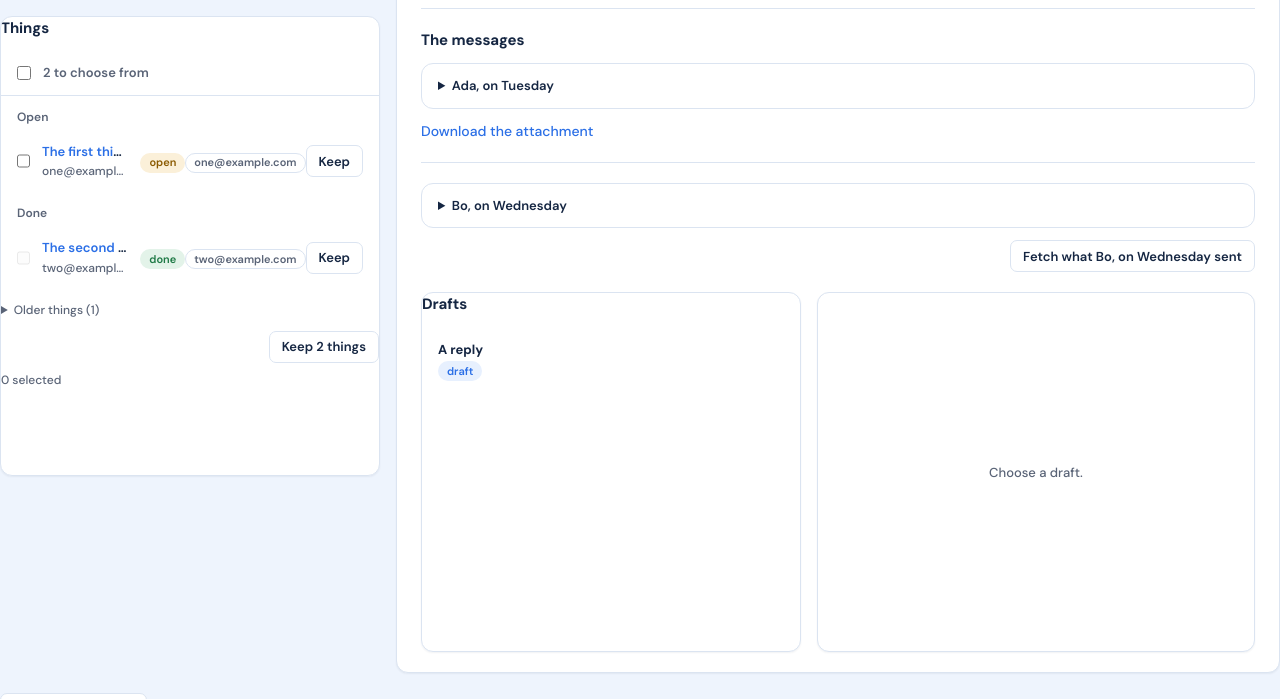
Scenario: the pieces a descriptor is made of › draws the approval a gated write answered with, rather than claiming it happened
(page scrolled)
Click the link "A reply draft": (461, 361) [438, 341, 483, 382]
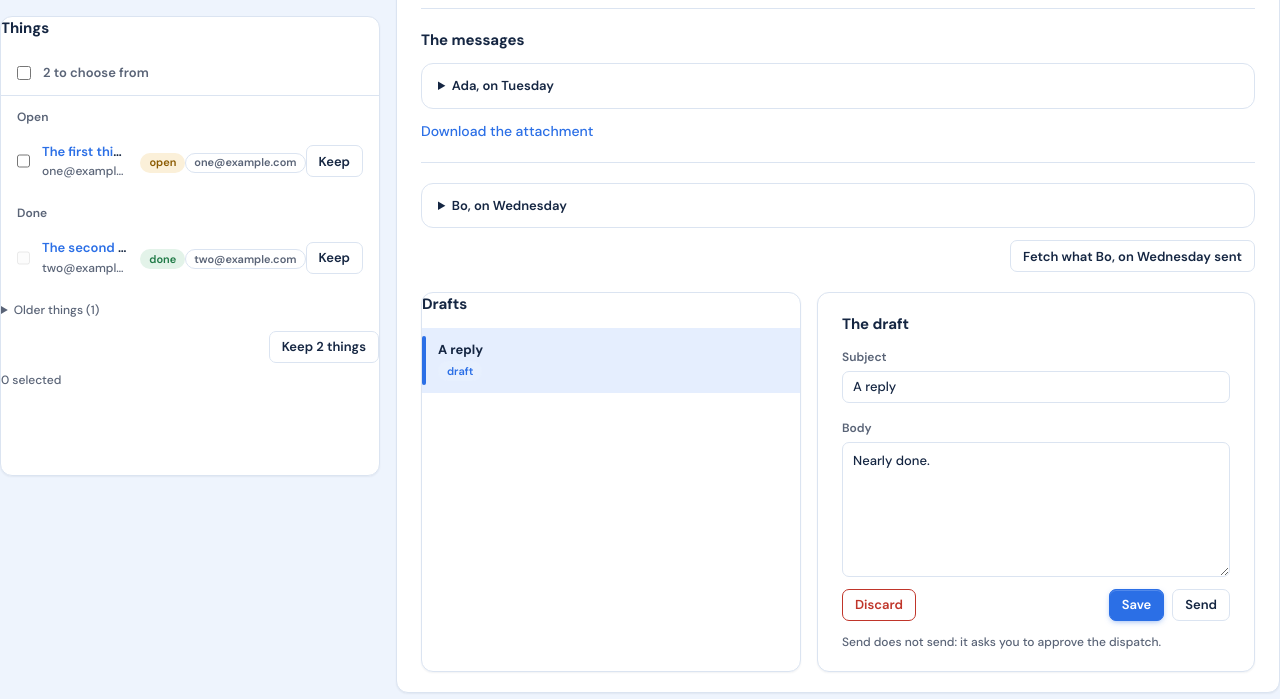
Click the button "Send": (1201, 605) [1172, 589, 1230, 621]
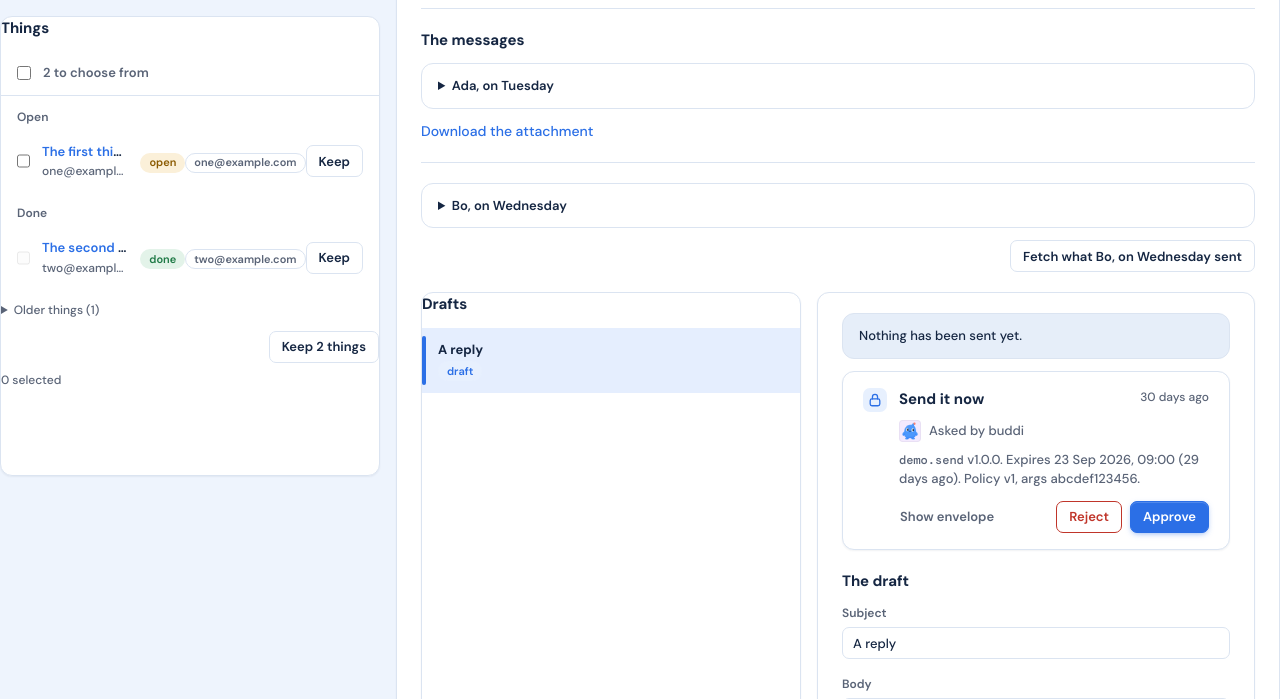
Expected: the heading "Send it now" is shown, [899, 389, 984, 409]
